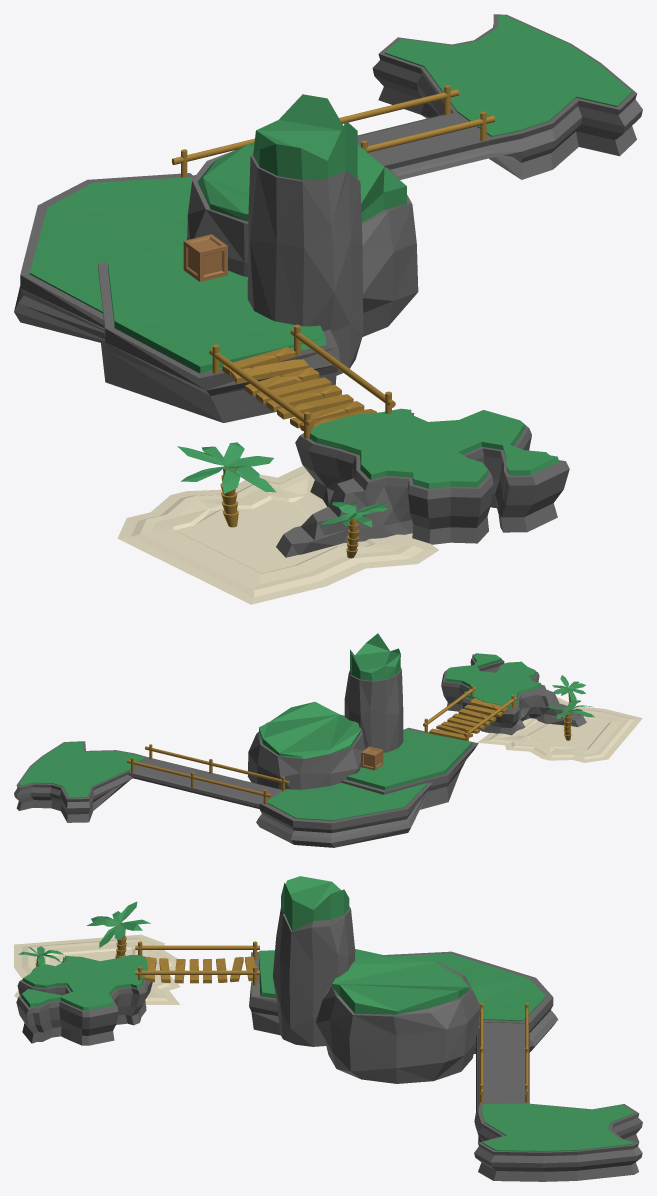
File: niveau1-Extension2.glb
The picture shows the model from 3 angles, top to bottom: view 1: azimuth 30°, elevation 25°; view 2: azimuth 150°, elevation 25°; view 3: azimuth 270°, elevation 25°; orthographic projection. The views are drawn at different scales.
Visible parts, largest first — view 1: Bloc1, Cube; view 2: Bloc1, Cube; view 3: Bloc1.
Part boxes in pixels (x1=…): Bloc1: x1=14, y1=14, x2=642, y2=604; Cube: x1=183, y1=234, x2=227, y2=281; Bloc1: x1=14, y1=633, x2=642, y2=847; Cube: x1=361, y1=746, x2=383, y2=770; Bloc1: x1=14, y1=876, x2=642, y2=1181.
Bounding box in the file's own units: 37.07 × 11.27 × 39.82.
